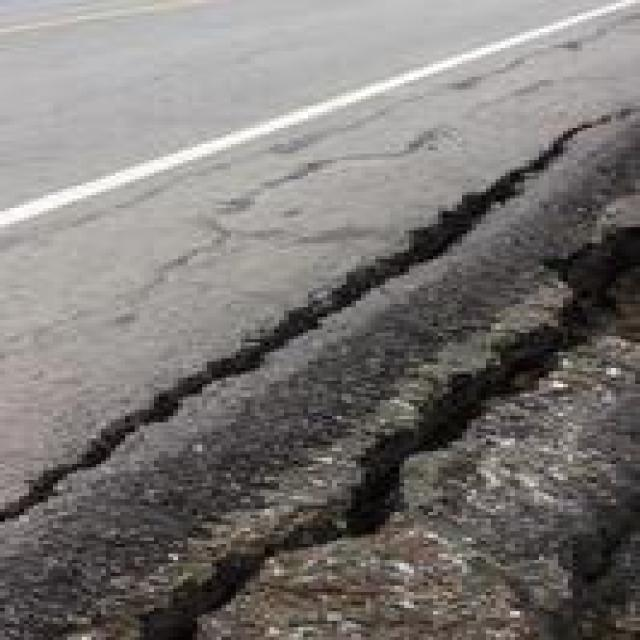road collapse: (0, 54, 640, 640)
